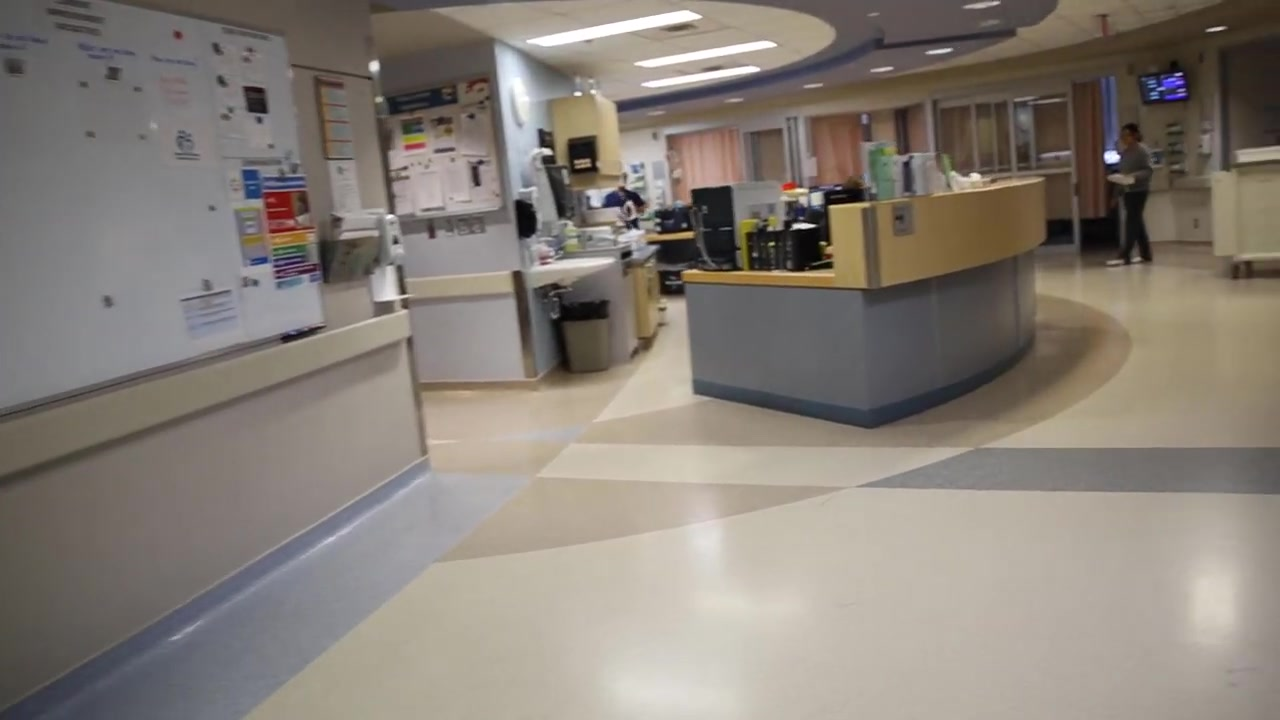TV: (1138, 68, 1192, 105)
cabinet: (551, 93, 624, 186)
counter: (683, 178, 1045, 427)
curtain: (667, 126, 740, 191), (810, 114, 858, 176)
dispenser: (360, 208, 416, 303), (532, 166, 577, 222), (513, 203, 541, 240)
hallway_assist_bar: (1, 309, 412, 484), (400, 270, 517, 302)
sink: (529, 258, 616, 289)
staff: (1103, 122, 1156, 267)
waste_bin: (552, 298, 615, 376)
